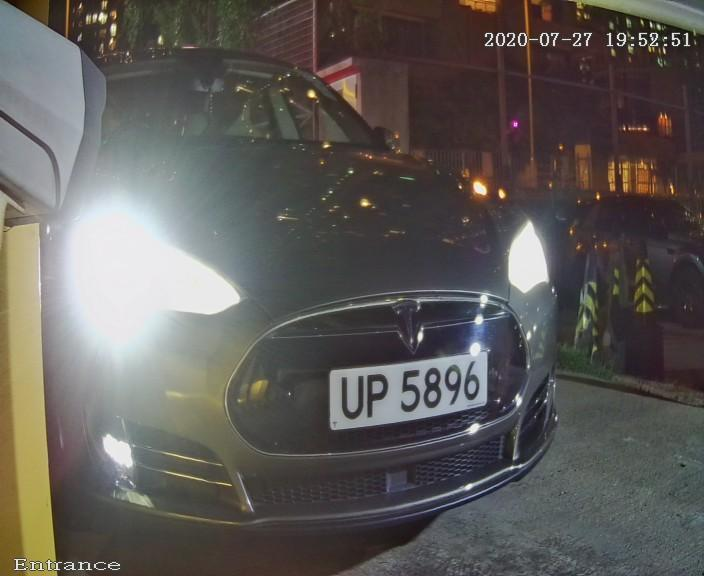privatecar: (54, 37, 585, 553)
